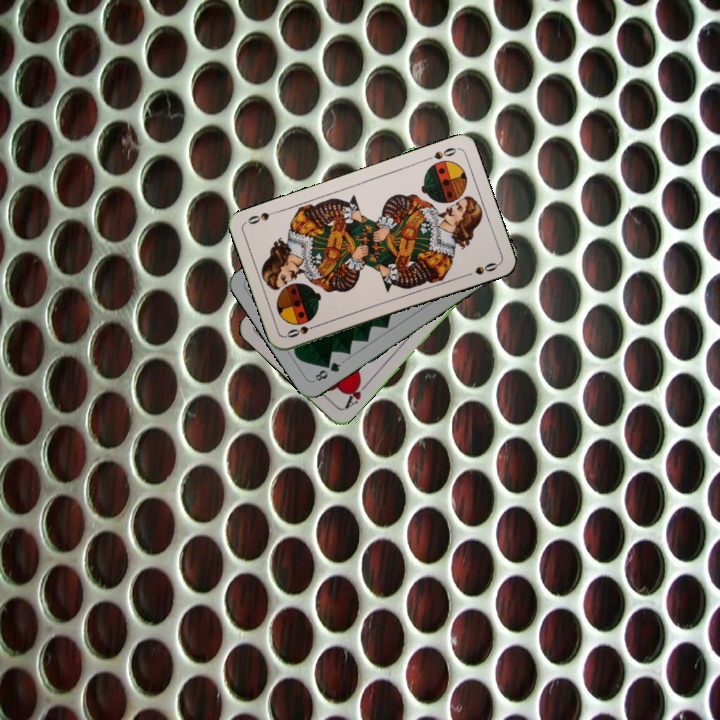G8: (311, 358, 344, 384)
HA: (341, 376, 371, 411)
SO: (282, 320, 322, 340), (421, 143, 460, 163)
